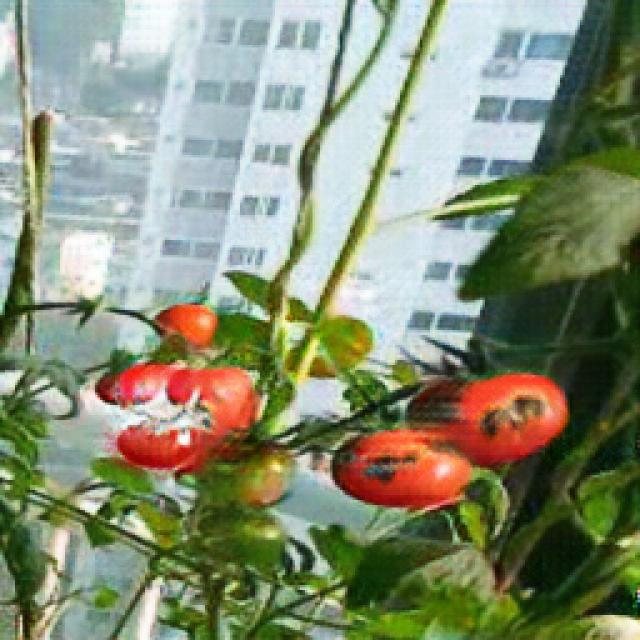overripe tomato: (410, 373, 568, 461), (330, 429, 474, 513)
